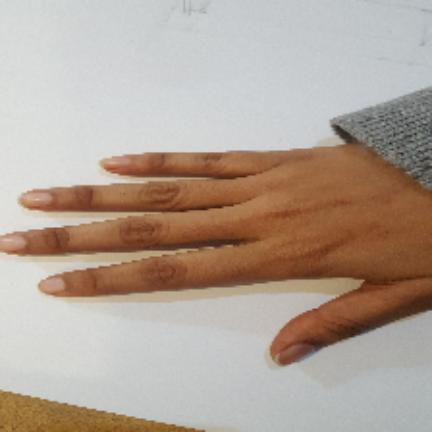Nail: (278, 343, 316, 364), (0, 234, 27, 252), (20, 192, 52, 207), (39, 277, 65, 294), (100, 156, 131, 169)
